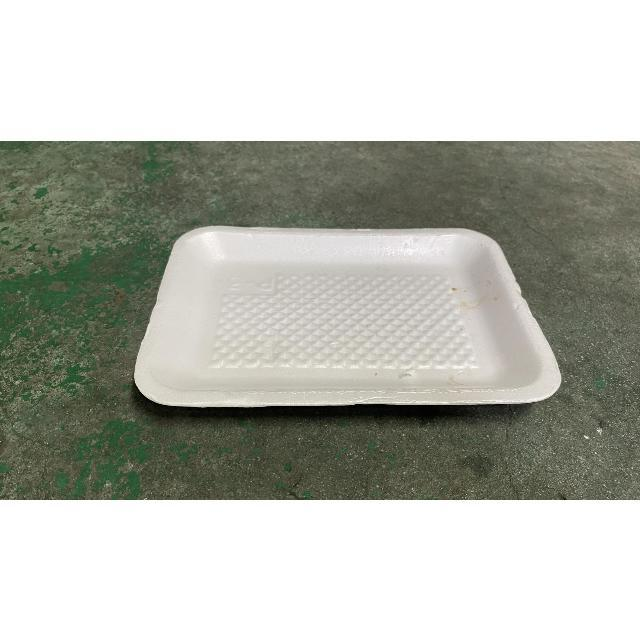Plastico descartable: (134, 226, 562, 411)
